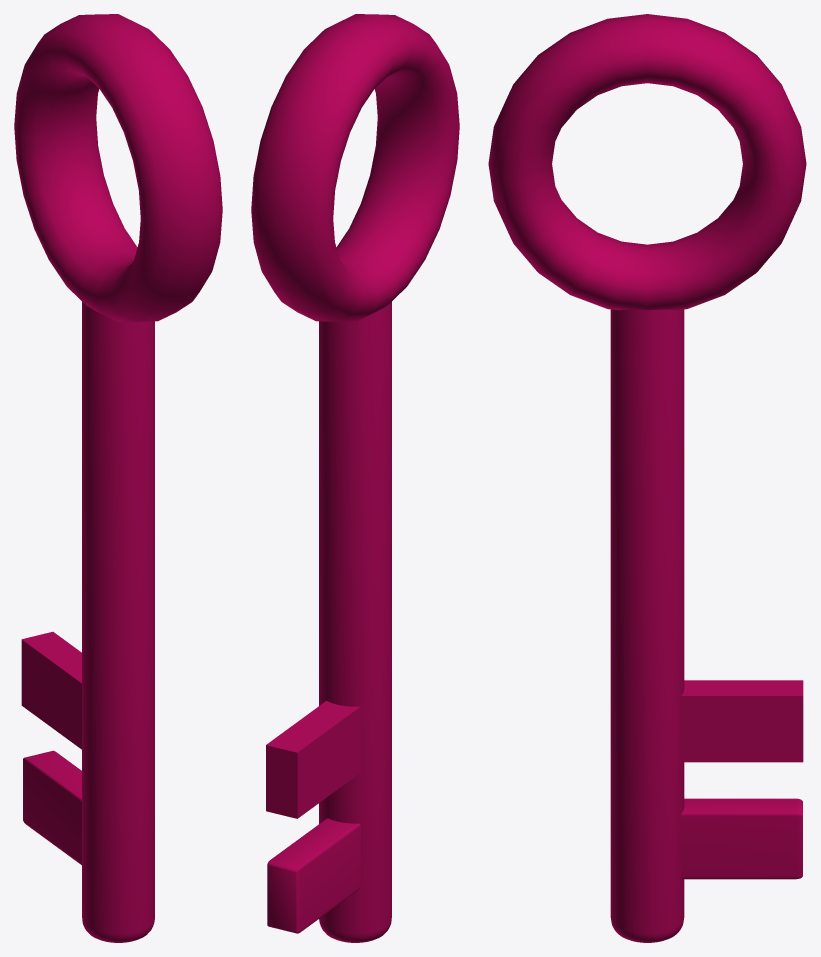
Rendered from Key.fbx.
3 renders of one model, left to right at view 1: azimuth 30°, elevation 25°; view 2: azimuth 150°, elevation 25°; view 3: azimuth 270°, elevation 25°, orthographic.
Visible parts, largest first — view 1: Tore.002, Tore.001, Cube.002, Cube.001; view 2: Tore.002, Tore.001, Cube.002, Cube.001; view 3: Tore.002, Tore.001, Cube.002, Cube.001.
Part boxes in pixels (x1,y1,x2,y2): Tore.002: (14,14,222,322); Tore.001: (82,302,154,942); Cube.002: (21,631,81,749); Cube.001: (23,750,81,864); Tore.002: (251,14,459,322); Tore.001: (319,302,391,942); Cube.002: (266,701,360,818); Cube.001: (267,818,360,933); Tore.002: (488,14,806,310); Tore.001: (610,309,684,942); Cube.002: (681,680,803,762); Cube.001: (681,798,802,879).
Bounding box in the file's own units: 35.98 × 411 × 130.
